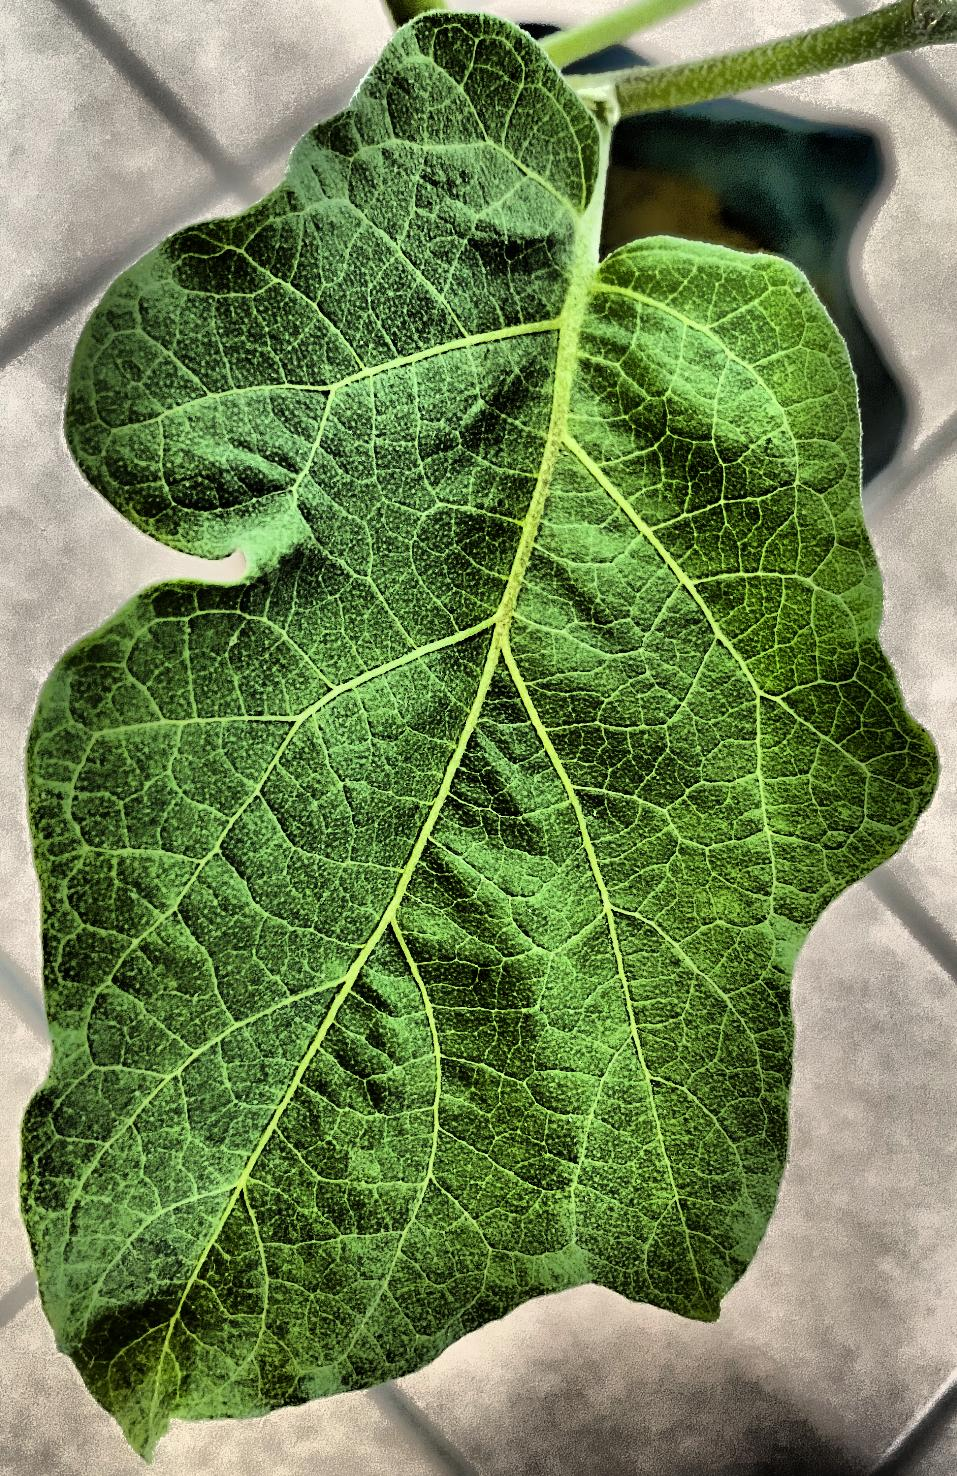HEALTHY: (1, 0, 957, 1476)
